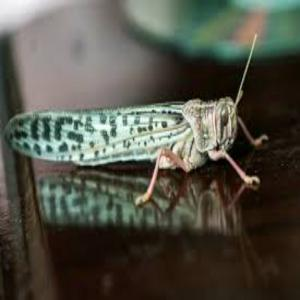locust: (1, 80, 265, 186)
